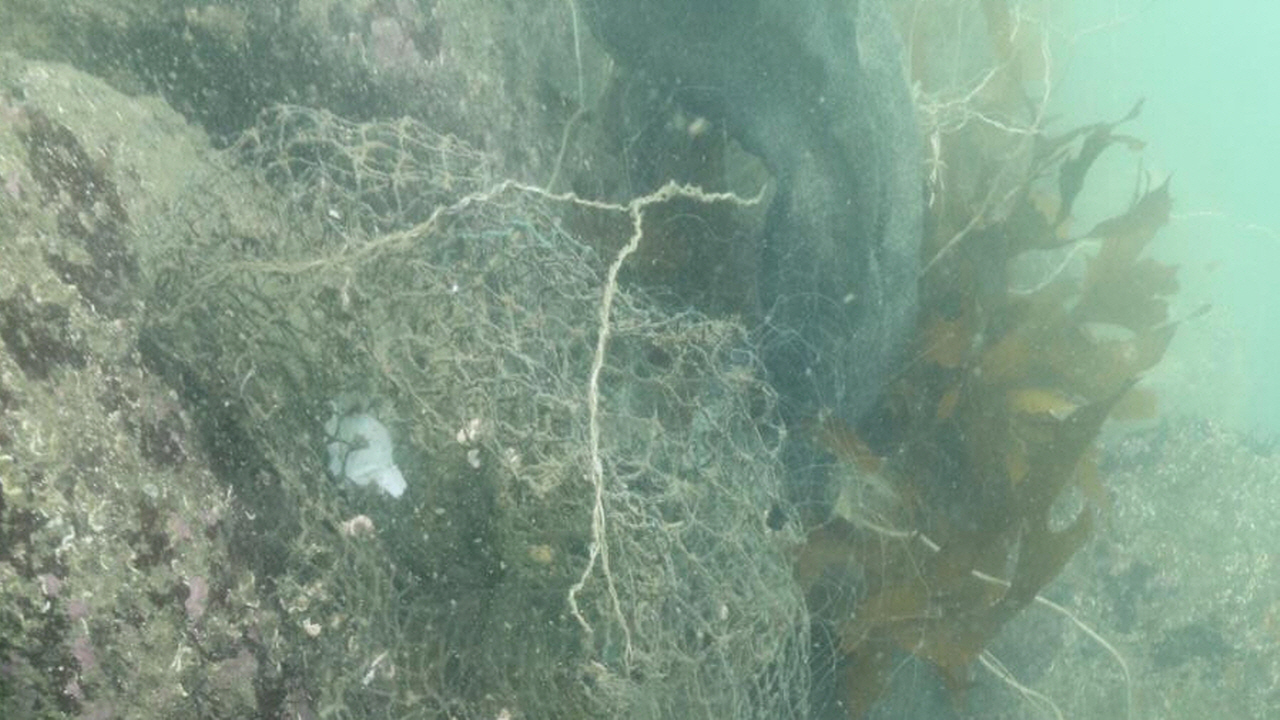fish net: (193, 105, 812, 720)
